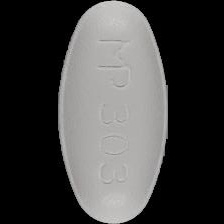50436-5015: (0, 0, 224, 224)
